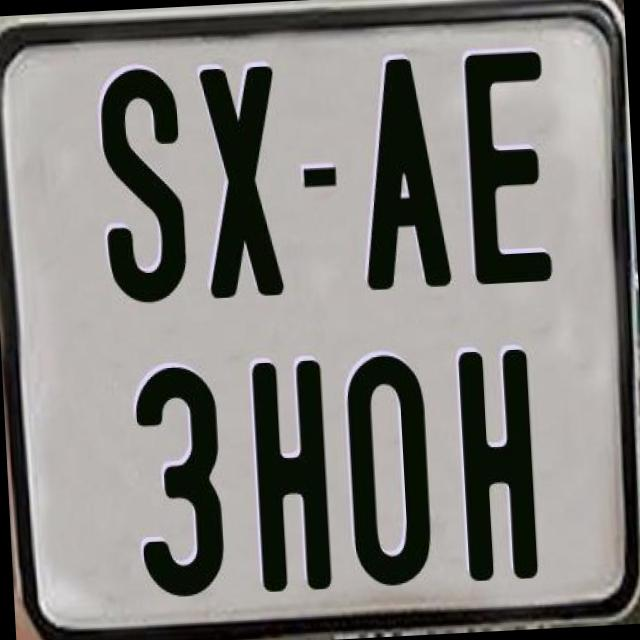0: (340, 348, 434, 587)
3: (132, 364, 230, 605)
A: (353, 57, 457, 296)
E: (461, 49, 559, 288)
H: (458, 346, 546, 582), (250, 358, 337, 592)
S: (95, 61, 188, 307)
X: (197, 61, 289, 302)
